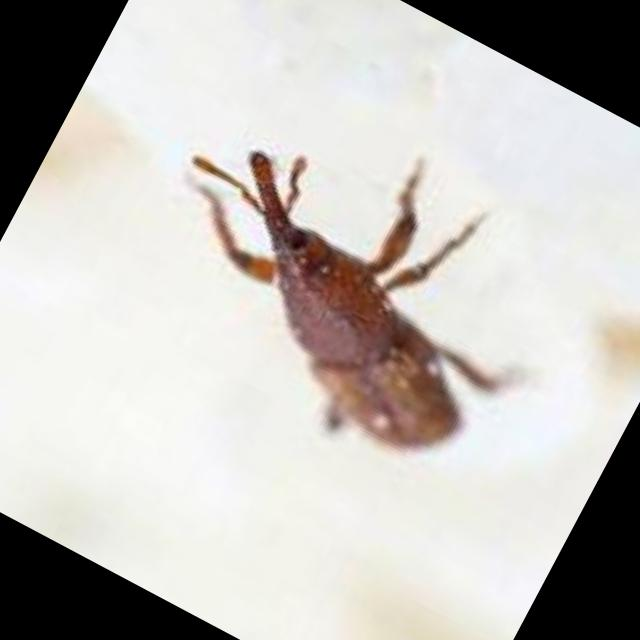rice-bug: (155, 118, 542, 476)
